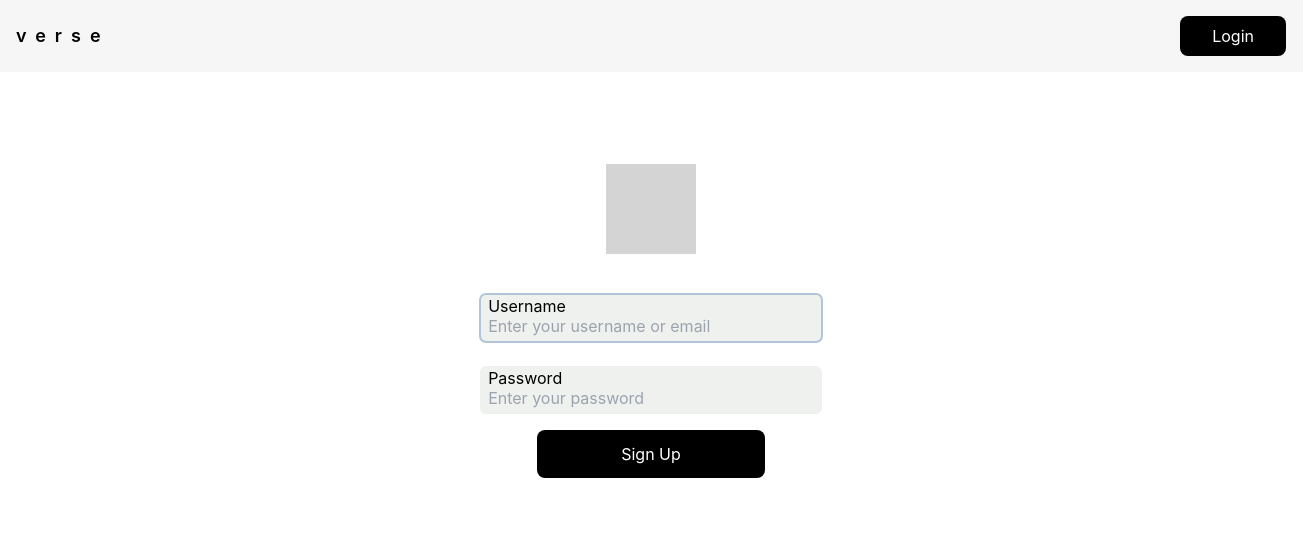
it: Signup › displays the error message when username and password are empty
// Simulate a click on the signup button with empty username and password fields
Step 1. Click the button with test id "signup-button" → (651,454), box [537,430,765,478]
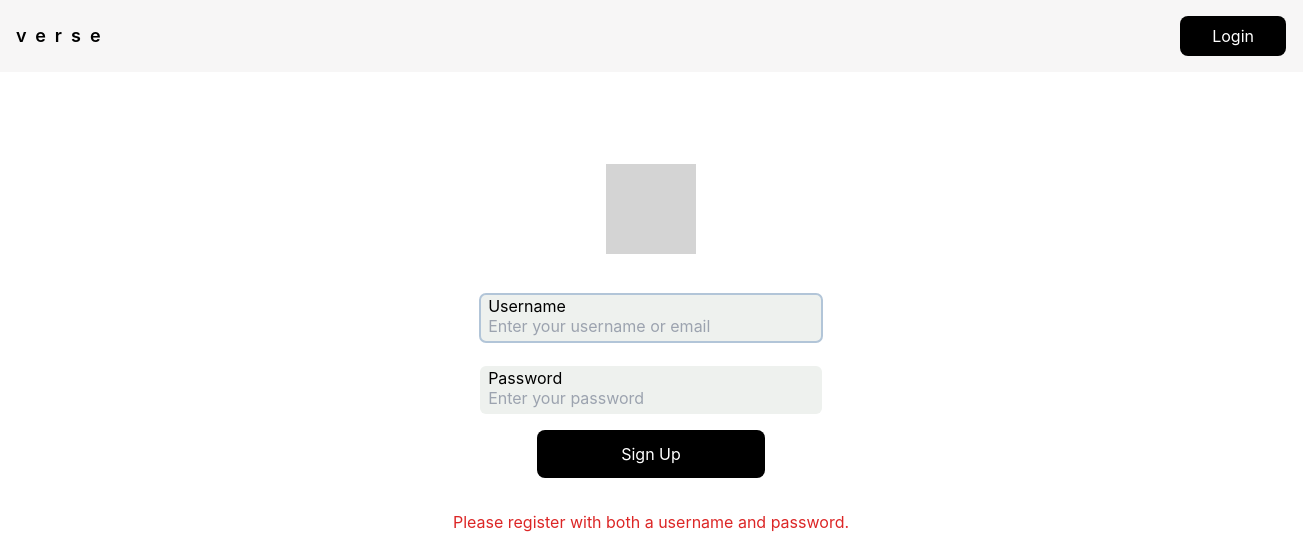
expect the text "Please register with both a username and password." is shown: met, box [453,510,849,534]
